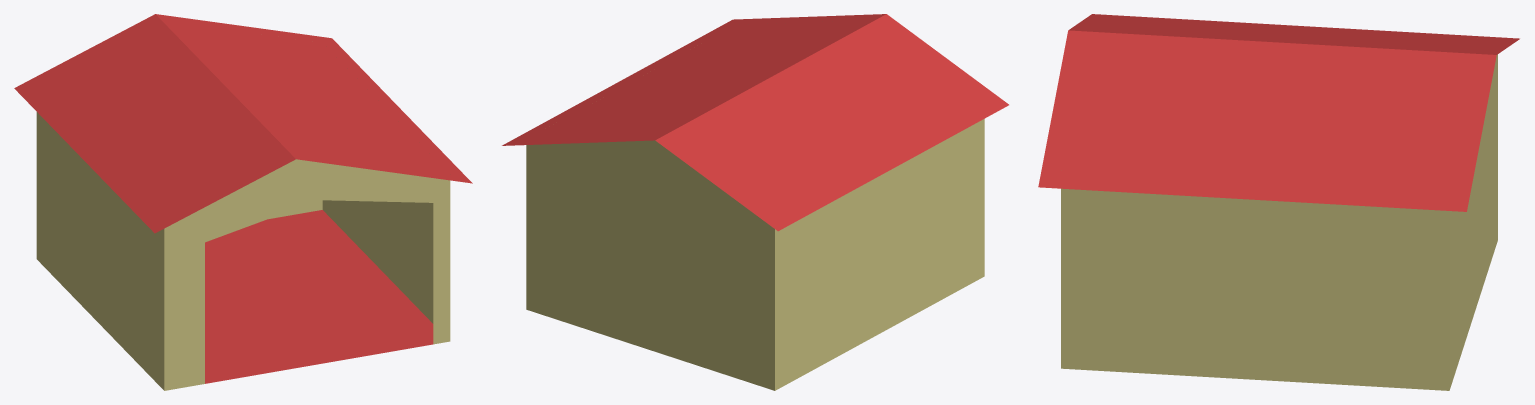
3 renders of one model, left to right at view 1: azimuth 30°, elevation 25°; view 2: azimuth 150°, elevation 25°; view 3: azimuth 270°, elevation 25°, orthographic. The views are drawn at different scales.
Size of the model in its own units: 16.83 by 17.86 by 10.31.
